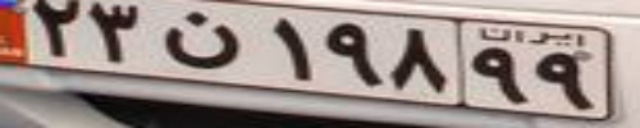1: (272, 15, 313, 80)
2: (32, 0, 78, 56)
3: (87, 1, 142, 62)
8: (389, 27, 446, 93)
9: (533, 51, 597, 110), (468, 44, 527, 103), (326, 22, 378, 87)
non: (164, 11, 240, 69)
